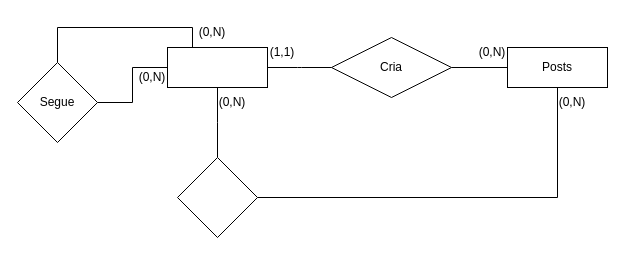
Some shapes in this 625 by 255 pixel diagram are drawn without their labels. The shapes that lost their labels are listed below. From the top down, each one's centre as x and y in pixels, then its label:
At point (217, 67): "Usuários".
At point (217, 197): "Curtem".
